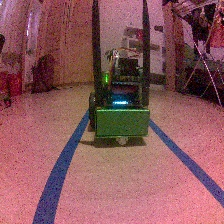rob: (88, 57, 150, 146)
